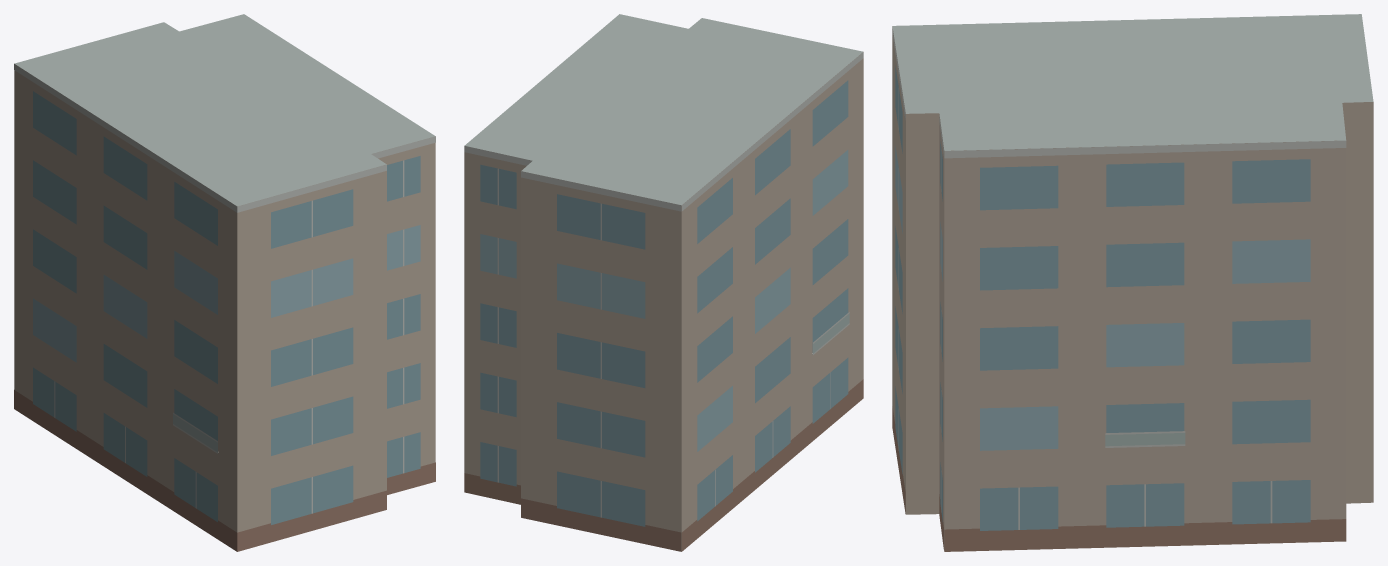
File: survey-upis-32847757.glb
3 renders of one model, left to right at view 1: azimuth 30°, elevation 25°; view 2: azimuth 150°, elevation 25°; view 3: azimuth 270°, elevation 25°, orthographic. The views are drawn at different scales.
Parts seen in each view (by area): view 1: survey-upis-32847757.tmp; view 2: survey-upis-32847757.tmp; view 3: survey-upis-32847757.tmp.
Boxes of the visible parts, x1,y1,x2,y2 form: survey-upis-32847757.tmp: (14, 14, 435, 551); survey-upis-32847757.tmp: (464, 14, 863, 551); survey-upis-32847757.tmp: (892, 14, 1373, 551).
Size of the model in its own units: 9.68 by 13.2 by 14.37.
